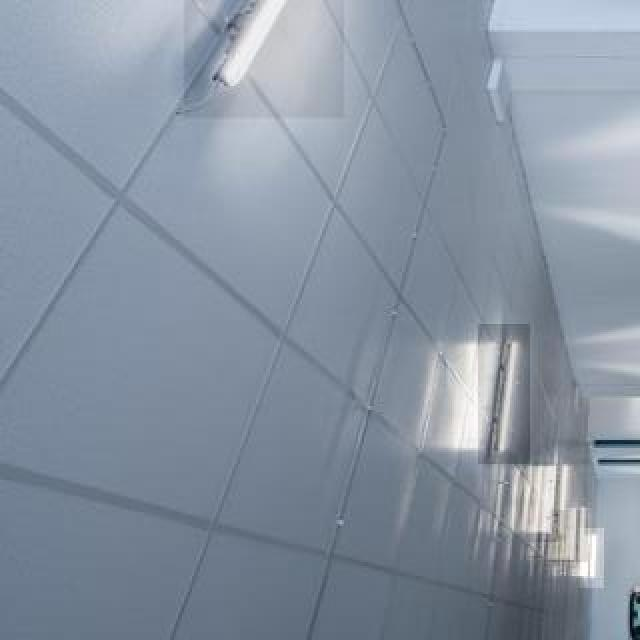fluorescent tube: (214, 0, 340, 104), (484, 337, 529, 466), (543, 449, 574, 533)
